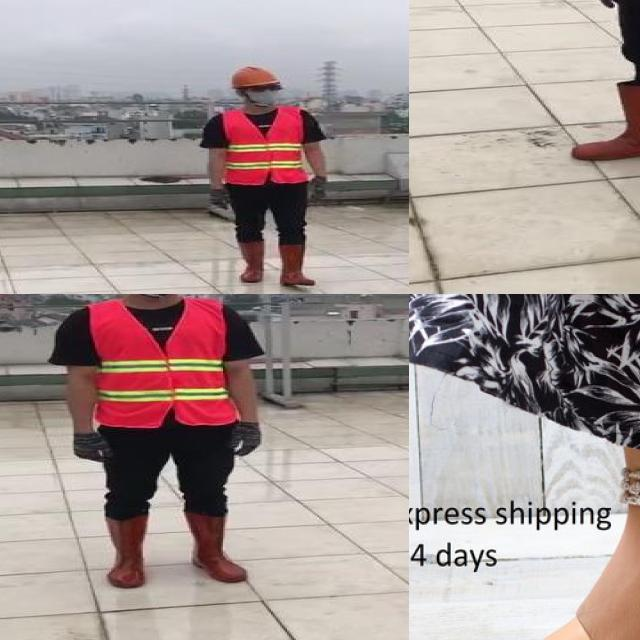boots: (570, 83, 640, 160), (186, 512, 253, 584), (102, 516, 148, 588), (276, 243, 314, 286), (236, 241, 264, 282)
face_mask: (242, 80, 284, 106)
glasses: (241, 82, 289, 94)
hand_glove: (70, 433, 113, 466), (232, 424, 266, 454), (209, 188, 234, 210), (309, 176, 328, 197), (595, 0, 627, 10)
head_helmet: (228, 65, 281, 90)
person: (49, 294, 279, 598), (193, 64, 337, 293), (525, 0, 640, 185)
vest: (88, 296, 239, 429), (223, 108, 309, 185)
